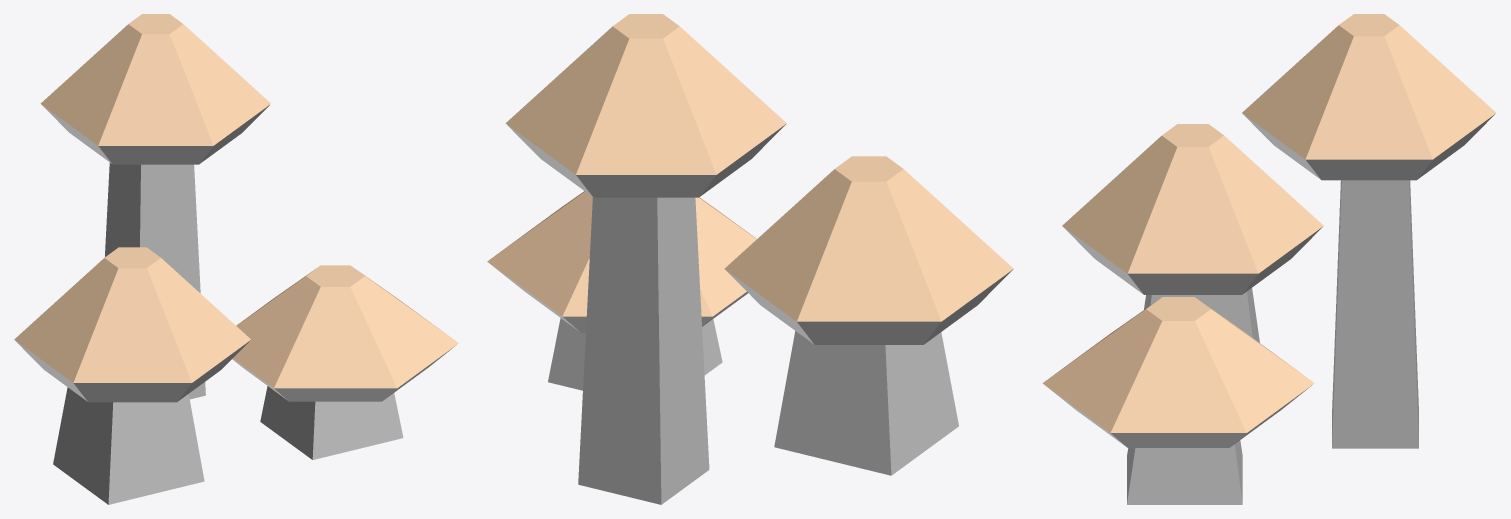
Rendered from mushroom_tanGroup.glb.
3 views of the same model, side by side, from view 1: azimuth 30°, elevation 25°; view 2: azimuth 150°, elevation 25°; view 3: azimuth 270°, elevation 25° (orthographic). The views are drawn at different scales.
Visible parts, largest first — view 1: mushroom_tanGroup; view 2: mushroom_tanGroup; view 3: mushroom_tanGroup.
Part boxes in pixels (<box>): mushroom_tanGroup: <box>14,14,458,504</box>; mushroom_tanGroup: <box>487,14,1013,504</box>; mushroom_tanGroup: <box>1042,14,1495,504</box>.
Size of the model in its own units: 0.2696 by 0.2505 by 0.2542.
